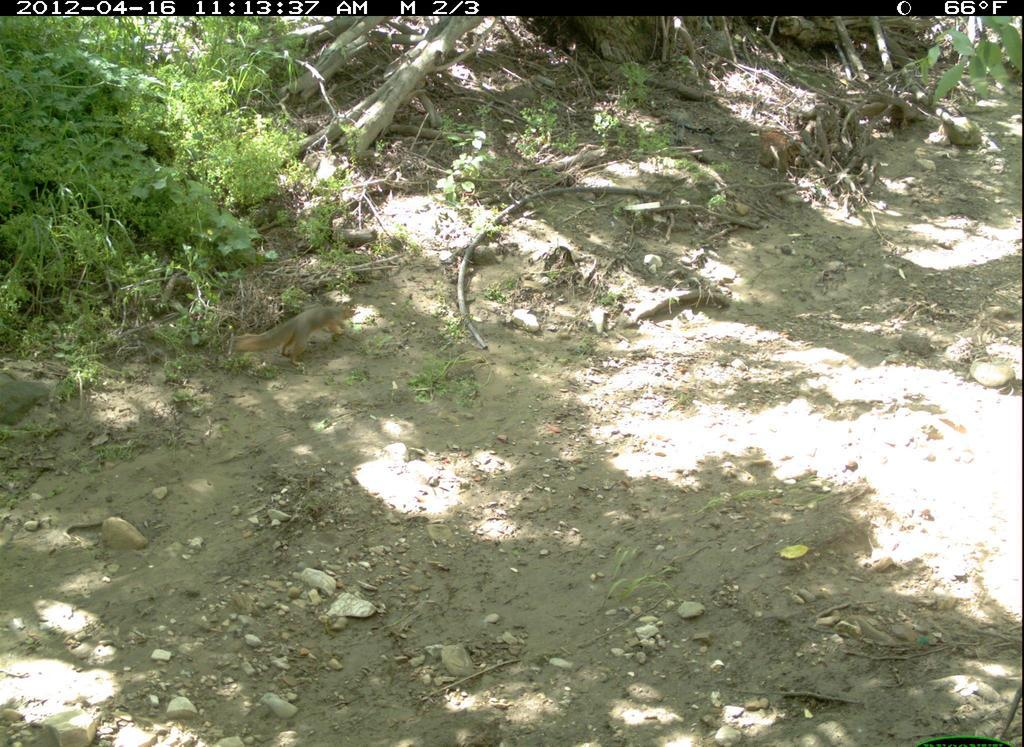squirrel: (233, 299, 365, 379)
